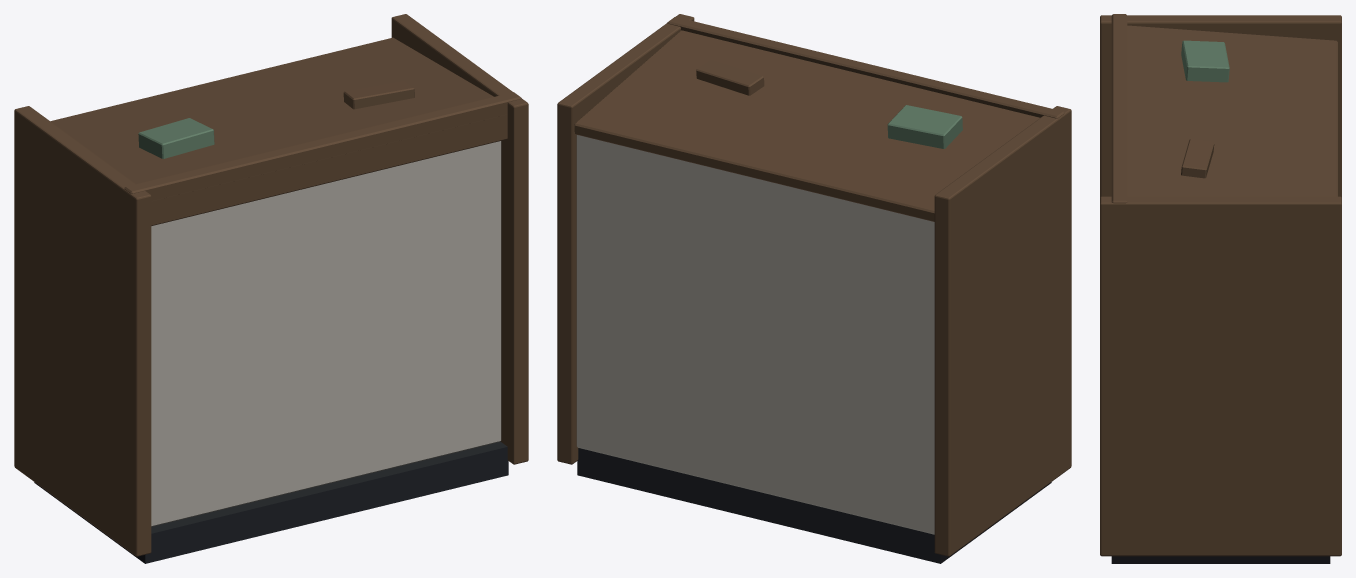
The model's file is prop_school_podium.glb.
3 views of the same model, side by side, from view 1: azimuth 30°, elevation 25°; view 2: azimuth 150°, elevation 25°; view 3: azimuth 270°, elevation 25° (orthographic).
Visible parts, largest first — view 1: prop_school_podium; view 2: prop_school_podium; view 3: prop_school_podium.
Boxes of the visible parts, x1=… form: prop_school_podium: x1=14, y1=14, x2=528, y2=563; prop_school_podium: x1=557, y1=14, x2=1071, y2=563; prop_school_podium: x1=1100, y1=14, x2=1341, y2=563.
Size of the model in its own units: 1.14 by 1.06 by 0.62.
